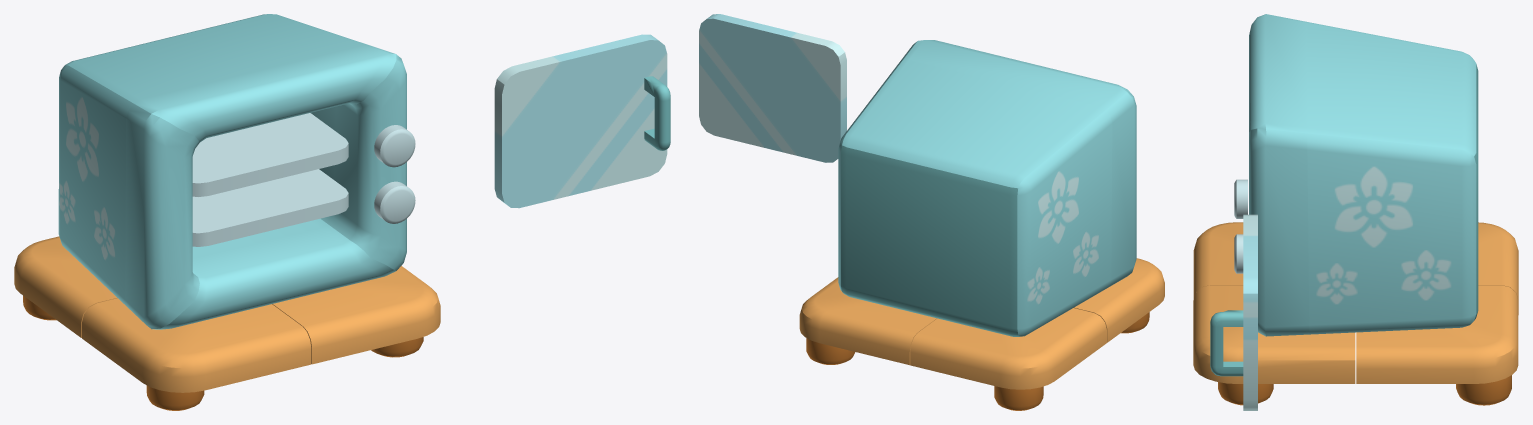
The model's file is level_6.fbx.
3 renders of one model, left to right at view 1: azimuth 30°, elevation 25°; view 2: azimuth 150°, elevation 25°; view 3: azimuth 270°, elevation 25°, orthographic. The views are drawn at different scales.
Visible parts, largest first — view 1: Cube.002, Cube.016, Cube.007, Cube.011, Cube.010, Cube, Cube.008, Cube.015, Cube.006, Cube.005, Cube.004, Cube.013 (+6 smaller); view 2: Cube.017, Cube.010, Cube.002, Cube.011, Cube.013, Cube.014, Cube, Cube.007, Cube.016, Cylinder.005, Cylinder.003, Cube.009; view 3: Cube.009, Cube.010, Cube.006, Cube.014, Cube.015, Cube, Cube.002, Cube.016, Cube.013, Cube.003, Cylinder.003, Cube.017 (+3 smaller).
Part boxes in pixels (x1,y1,x2,y2): Cube.002: (494, 34, 667, 208); Cube.016: (82, 298, 311, 392); Cube.007: (125, 104, 199, 329); Cube.011: (58, 65, 133, 306); Cube.010: (65, 14, 369, 103); Cube: (134, 45, 396, 142); Cube.008: (152, 224, 395, 329); Cube.015: (272, 266, 440, 364); Cube.006: (327, 54, 406, 270); Cube.005: (192, 113, 348, 196); Cube.004: (192, 169, 348, 246); Cube.013: (14, 236, 117, 337); Cube.017: (841, 145, 1019, 336); Cube.010: (842, 60, 1105, 188); Cube.002: (699, 14, 846, 162); Cube.011: (1017, 110, 1112, 336); Cube.013: (910, 308, 1106, 389); Cube.014: (799, 277, 936, 365); Cube: (903, 40, 1127, 109); Cube.007: (1106, 90, 1136, 288); Cube.016: (1074, 258, 1164, 342); Cylinder.005: (994, 386, 1043, 410); Cylinder.003: (806, 338, 855, 364); Cube.009: (838, 61, 901, 290); Cube.009: (1307, 133, 1476, 334); Cube.010: (1307, 22, 1476, 156); Cube.006: (1249, 128, 1309, 336); Cube.014: (1356, 285, 1518, 383); Cube.015: (1193, 285, 1355, 383); Cube: (1249, 14, 1307, 133); Cube.002: (1243, 214, 1257, 410); Cube.016: (1193, 222, 1243, 298); Cube.013: (1478, 222, 1518, 314); Cube.003: (1210, 310, 1243, 376); Cylinder.003: (1456, 375, 1511, 405); Cube.017: (1474, 64, 1478, 320).
Bounding box in the file's own units: 18.04 × 9.44 × 10.
